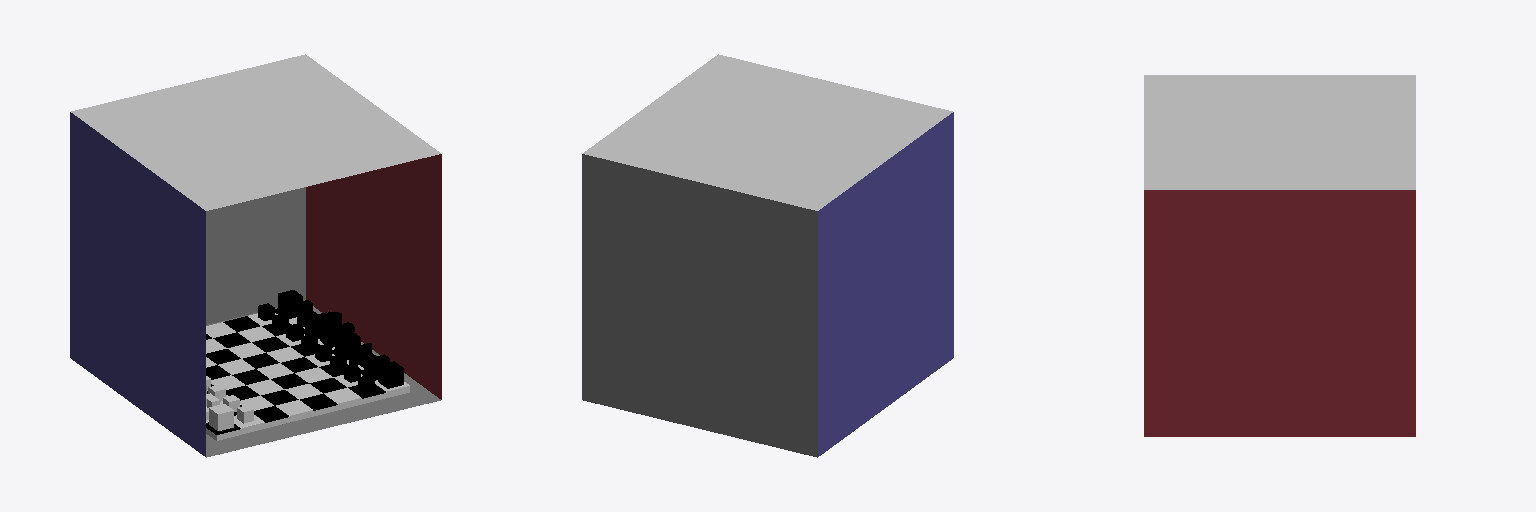
Rendered from chess.obj.
The picture shows the model from 3 angles: view 1: azimuth 30°, elevation 25°; view 2: azimuth 150°, elevation 25°; view 3: azimuth 270°, elevation 25°; orthographic projection.
Visible parts, largest first — view 1: LeftWall_LeftWall_LeftWall, Ceiling_Ceiling_Ceiling, RightWall_RightWall_RightWall, Chessboard_Untitled.052, BackWall_cher.jpg_che_BackWall_cher.jpg_che_BackWall_cher.jpg_c, Floor_cher.jpg_Floor_cher.jpg_Floor_cher.jpg_wood.jpg, TowerB02_Untitled.037, TowerA02_Untitled.054, KingB_Untitled.055, QueenB_Untitled.049; view 2: BackWall_cher.jpg_che_BackWall_cher.jpg_che_BackWall_cher.jpg_c, LeftWall_LeftWall_LeftWall, Ceiling_Ceiling_Ceiling; view 3: RightWall_RightWall_RightWall, Ceiling_Ceiling_Ceiling.
Boxes of the visible parts, x1=… form: LeftWall_LeftWall_LeftWall: x1=70, y1=112, x2=205, y2=456; Ceiling_Ceiling_Ceiling: x1=71, y1=54, x2=440, y2=210; RightWall_RightWall_RightWall: x1=306, y1=154, x2=441, y2=399; Chessboard_Untitled.052: x1=206, y1=308, x2=409, y2=440; BackWall_cher.jpg_che_BackWall_cher.jpg_che_BackWall_cher.jpg_c: x1=206, y1=187, x2=305, y2=324; Floor_cher.jpg_Floor_cher.jpg_Floor_cher.jpg_wood.jpg: x1=206, y1=306, x2=440, y2=457; TowerB02_Untitled.037: x1=378, y1=361, x2=403, y2=388; TowerA02_Untitled.054: x1=209, y1=404, x2=233, y2=430; KingB_Untitled.055: x1=320, y1=311, x2=341, y2=347; QueenB_Untitled.049: x1=335, y1=322, x2=360, y2=357; BackWall_cher.jpg_che_BackWall_cher.jpg_che_BackWall_cher.jpg_c: x1=582, y1=154, x2=817, y2=457; LeftWall_LeftWall_LeftWall: x1=818, y1=112, x2=953, y2=456; Ceiling_Ceiling_Ceiling: x1=583, y1=54, x2=952, y2=210; RightWall_RightWall_RightWall: x1=1144, y1=190, x2=1415, y2=436; Ceiling_Ceiling_Ceiling: x1=1144, y1=75, x2=1415, y2=189.
Size of the model in its own units: 17.11 by 17.11 by 17.11.